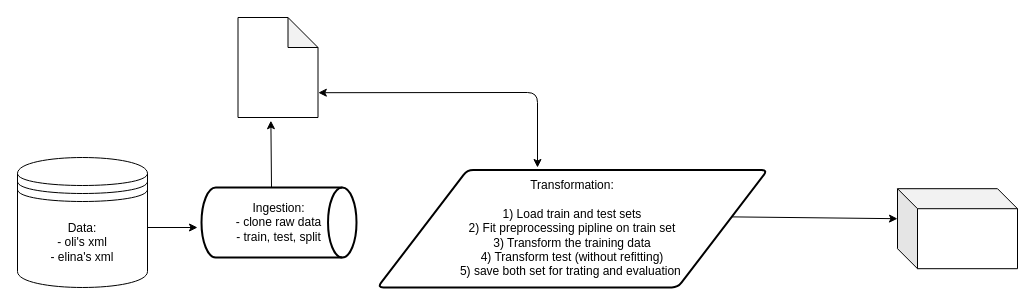
Image size: 1035x306. Some labels were removed from this diagram. Here are the shapes that lost their labels. From the top down, the centre of each, then its label:
At (277,67): "Artefacts: - raw data - train set - test set".
At (957,228): "Trainer".
